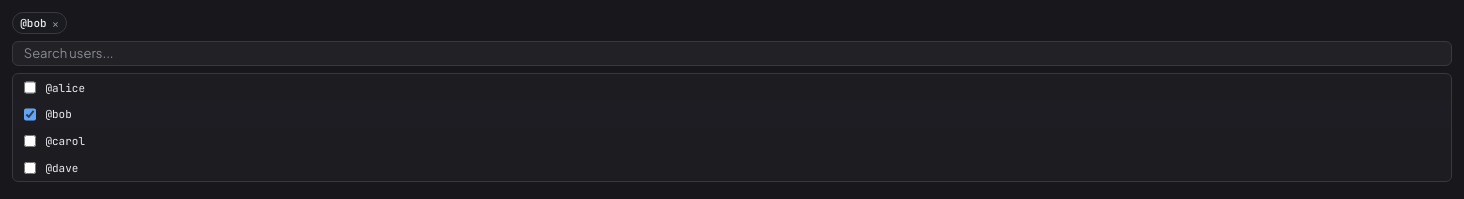
Test: MemberPicker › toggles and removes selected handlers
The image size is (1464, 199).
expect the checkbox labelled "@bob" is checked: met, box [24, 108, 36, 121]
Click the checkbox labelled "@alice": (30, 88) [24, 81, 36, 94]
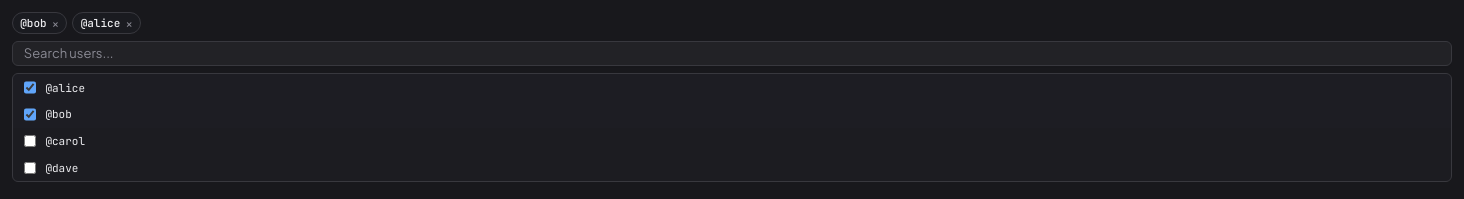
expect the button named "Remove alice" is shown: met, box [126, 15, 132, 31]
Click the button named "Remove bob": (55, 23) [52, 15, 59, 31]
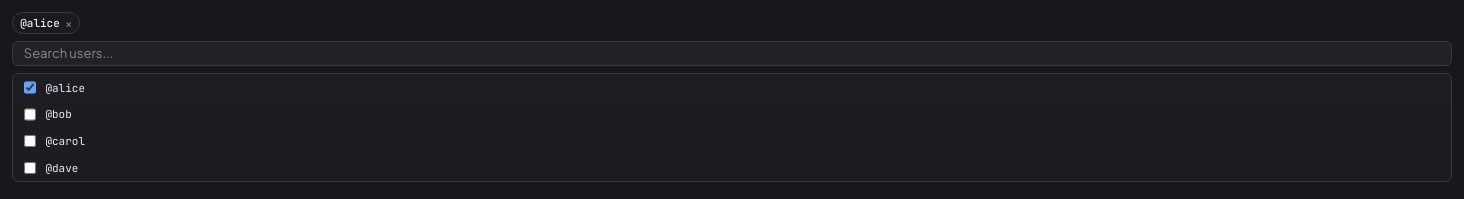
expect the checkbox labelled "@bob" is not checked: met, box [24, 108, 36, 121]
